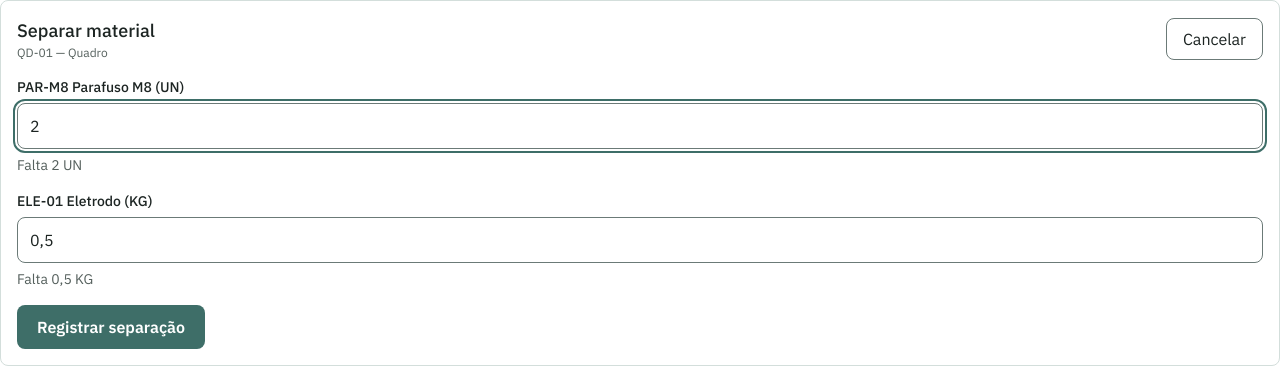
it: PainelDeSeparacao › campo inválido mostra o erro no próprio campo e trava o envio
Replace the text in the field labelled "PAR-M8 Parafuso M8 (UN)" with "2,12345" at (640, 126), box [17, 103, 1263, 149]
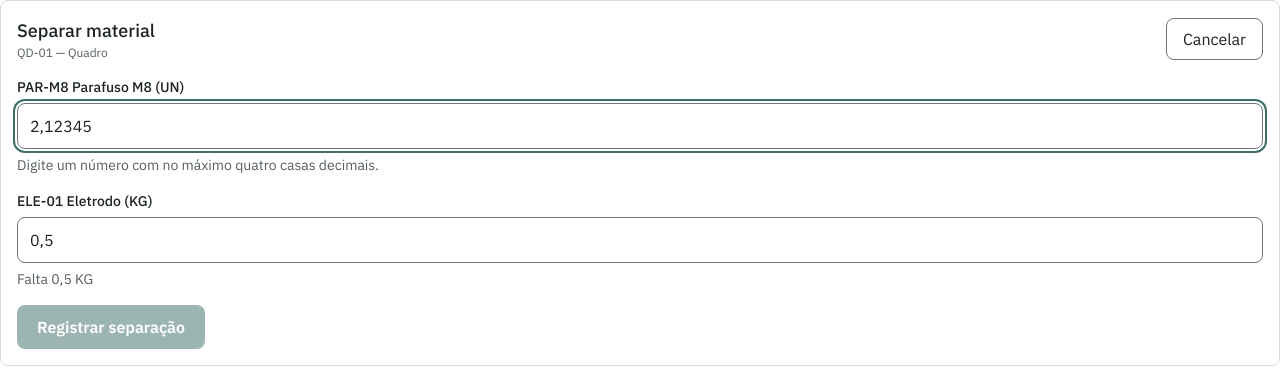
Expected: the text "Digite um número com no máximo quatro casas decimais." is shown, [17, 156, 379, 174]
Expected: the button "Registrar separação" is disabled, [17, 305, 205, 349]
